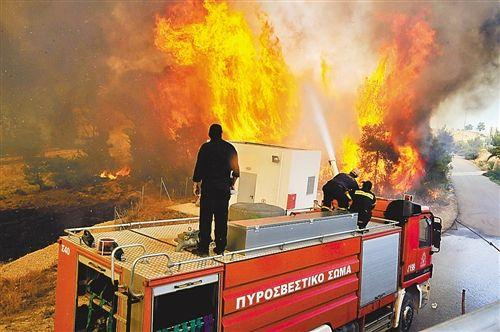fire: (205, 6, 298, 141), (159, 17, 207, 66), (157, 18, 208, 63), (355, 62, 384, 123), (333, 138, 362, 174)
smoke: (7, 7, 155, 162), (428, 4, 498, 90)
